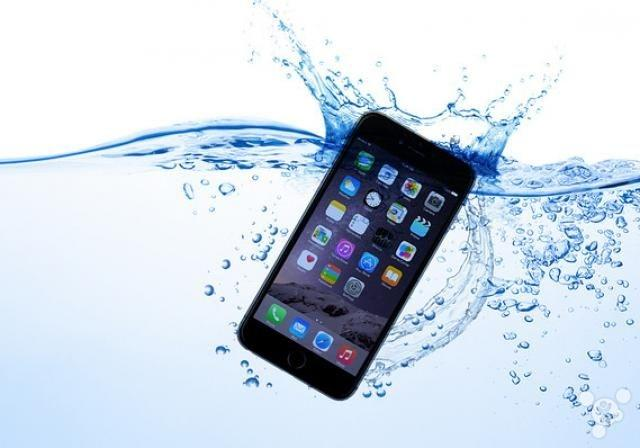phone: (233, 121, 484, 372)
